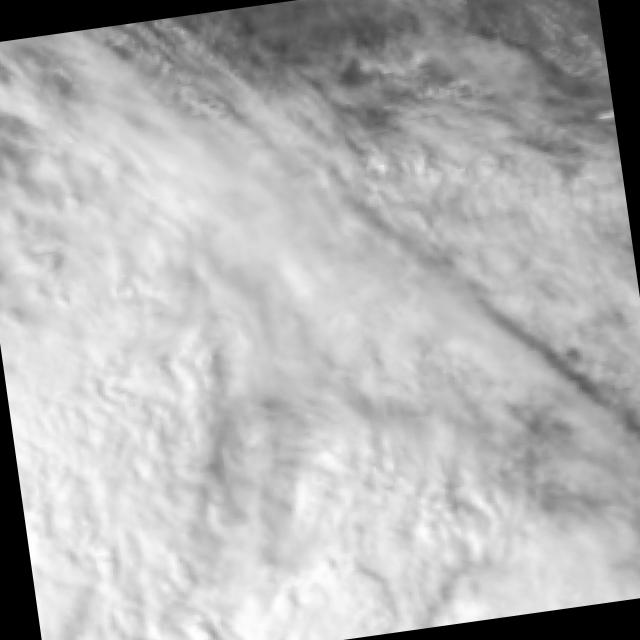CB: (0, 287, 198, 607), (30, 517, 328, 640)
